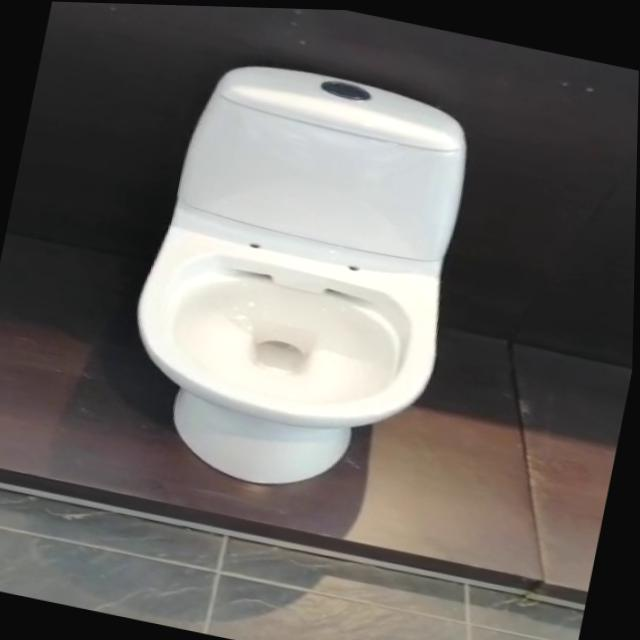toilet: (110, 43, 489, 513)
